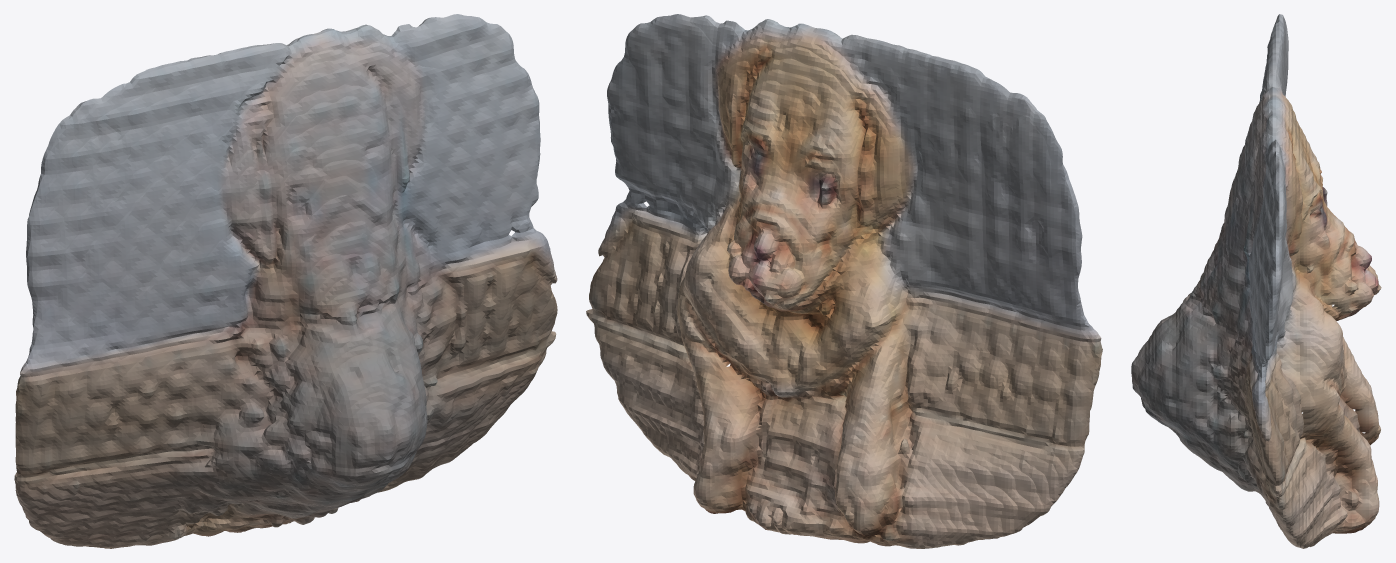
Rendered from 3d-ANM-2026-012-1784356367709.glb.
3 renders of one model, left to right at view 1: azimuth 30°, elevation 25°; view 2: azimuth 150°, elevation 25°; view 3: azimuth 270°, elevation 25°, orthographic. The views are drawn at different scales.
Visible parts, largest first — view 1: world; view 2: world; view 3: world.
Part boxes in pixels (x1=…): world: x1=14, y1=14, x2=557, y2=548; world: x1=586, y1=14, x2=1102, y2=548; world: x1=1131, y1=14, x2=1381, y2=548.
Bounding box in the file's own units: 1.03 × 0.923 × 0.4952.
